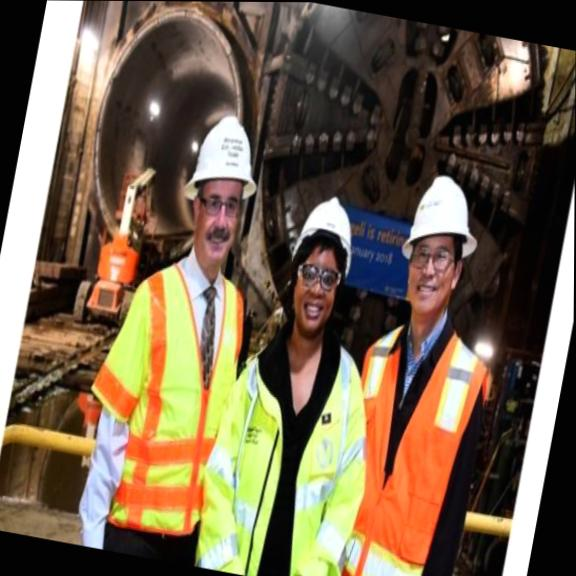safety_vest: (89, 237, 251, 540), (327, 329, 494, 576)
